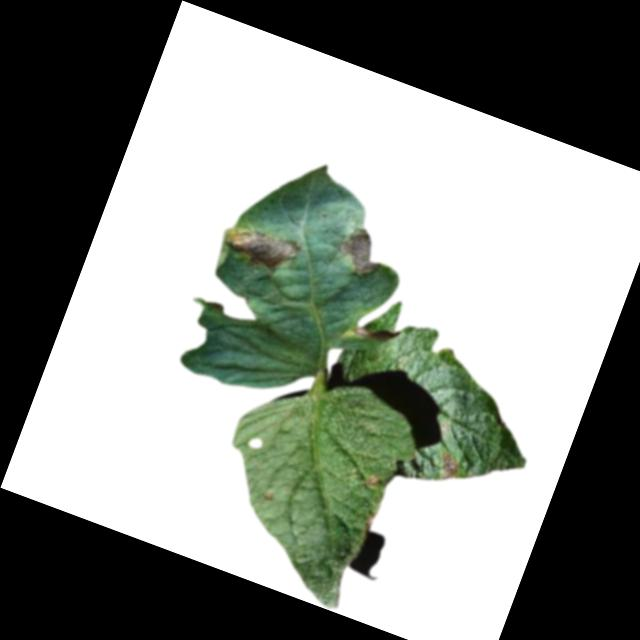Early_blight: (219, 216, 300, 284), (331, 220, 390, 284), (353, 315, 404, 353), (433, 448, 462, 482), (360, 509, 379, 534), (365, 472, 381, 490)
